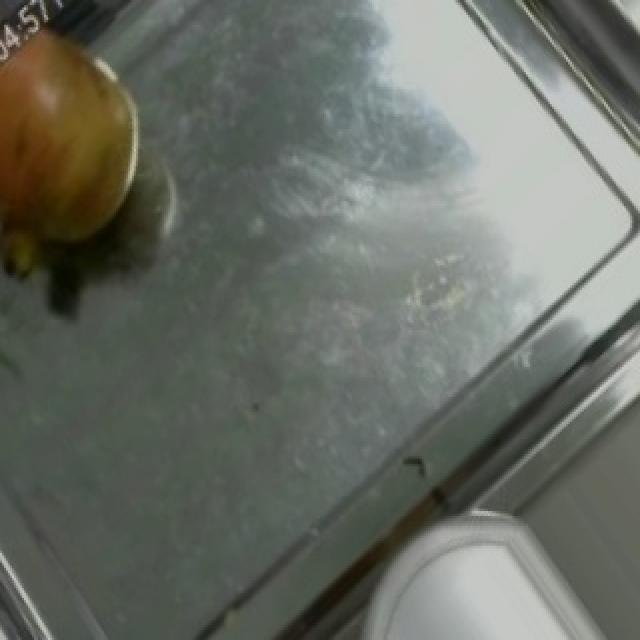fruit: (2, 3, 174, 295)
